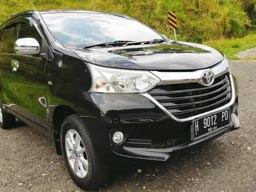plat: (193, 108, 229, 140)
